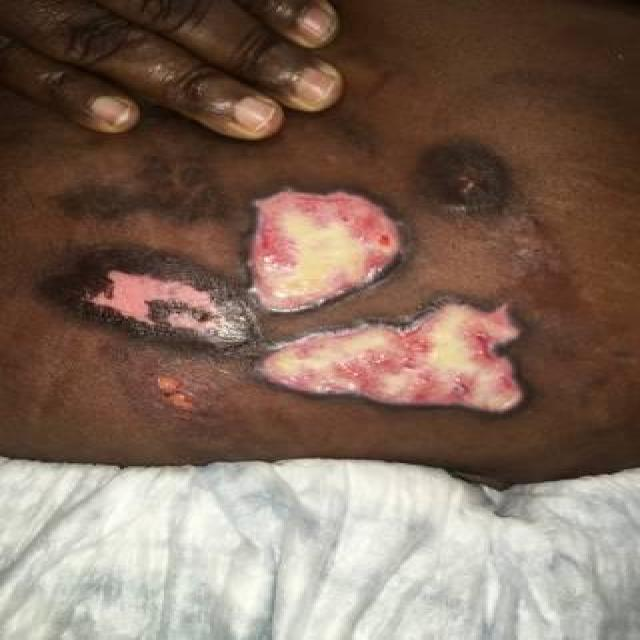stage-3: (257, 300, 524, 412), (250, 191, 405, 312)
